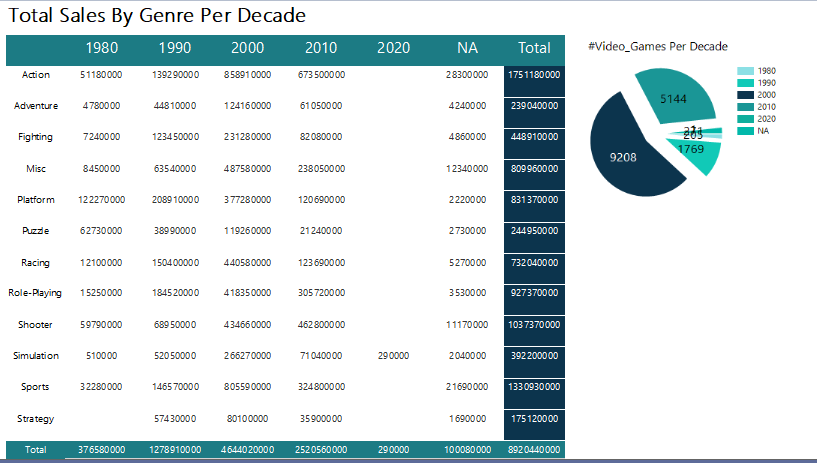

The dashboard page shown, as its layout file describes it:
{"tool":"powerbi","page":{"name":"Page 4","canvas":[1280,720],"ordinal":4},"visuals":[{"type":"tableEx","fields":{"Values":["Video Games.Genre","Video Games.Sales_Cases","Video Games.Name","Measures (3).Total Sales","Measures (3).RankX for Name Genre"]},"box":[10.1,0,1198.1,489.6],"z":0}]}

Visuals, with their boxes in screenshot pixels (x1, y1, x2, y2), scaled from the page's 1280x720 canvas onto the 817x463 screenshot:
tableEx - Video Games.Genre x Video Games.Sales_Cases: bbox(6, 0, 771, 315)
